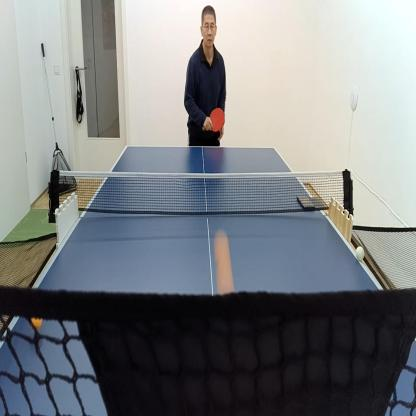Ball: (214, 231, 234, 294), (356, 247, 364, 261), (32, 317, 42, 327)
